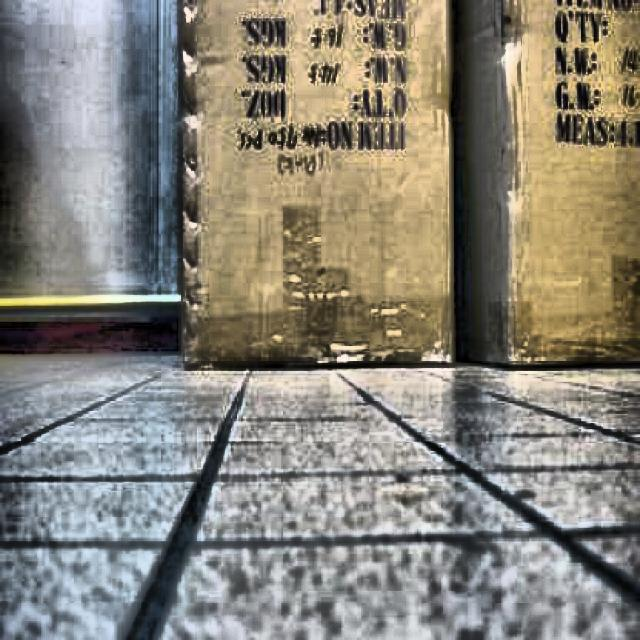Cardbox: (164, 0, 471, 431), (482, 0, 640, 398)
